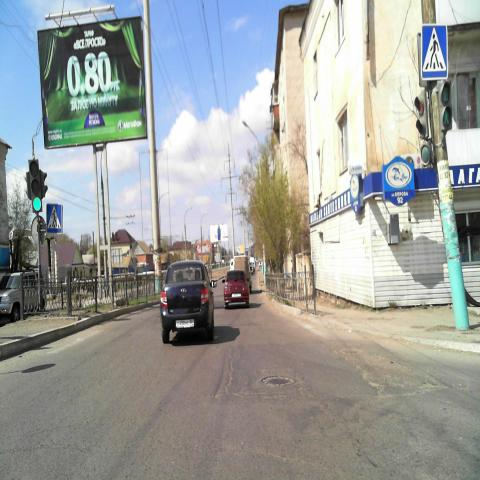5_19_1: (421, 25, 448, 82), (46, 202, 62, 232)
